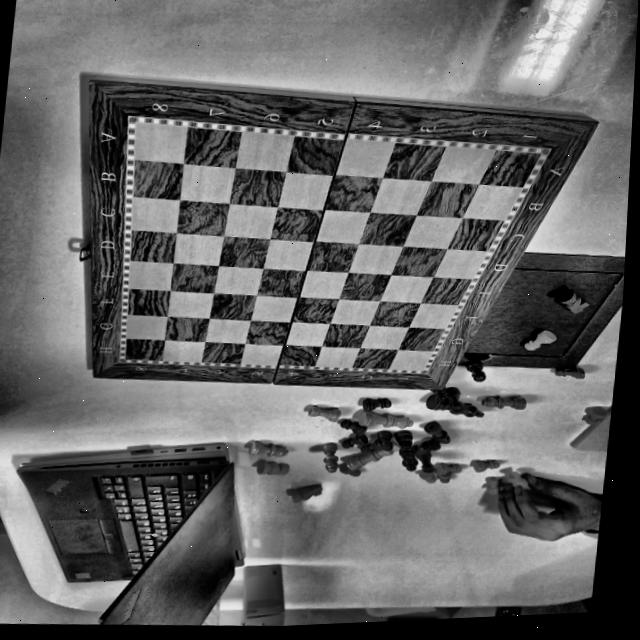chessboard: (88, 82, 599, 390)
